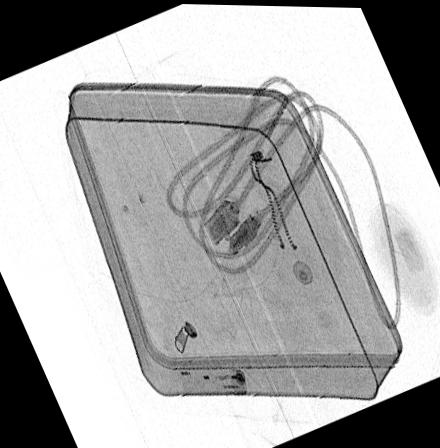Lighter: (176, 366, 249, 395)
